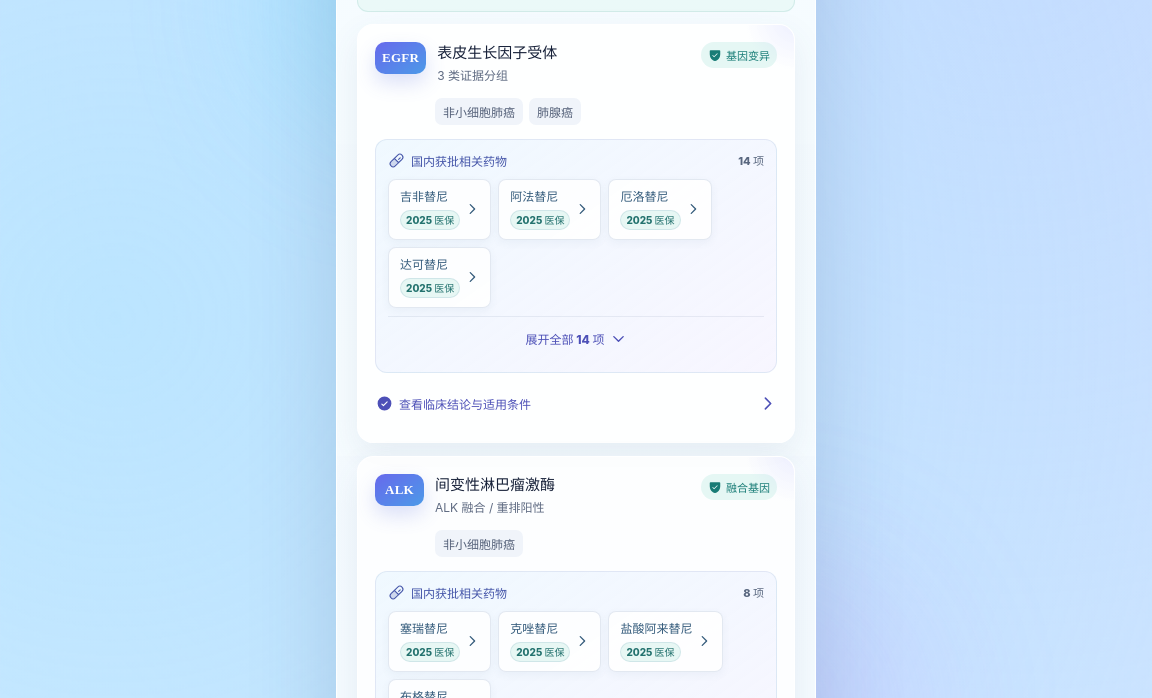
Test: Gene lookup app › expands all therapies inline without opening marker detail
(page scrolled)
Expected: the text "甲磺酸贝福替尼" is not shown
What coordinates should you click on to do the following:
click the button "展开全部 14 项"
I would click on:
 (576, 338)
Its box is [388,316,764,360].
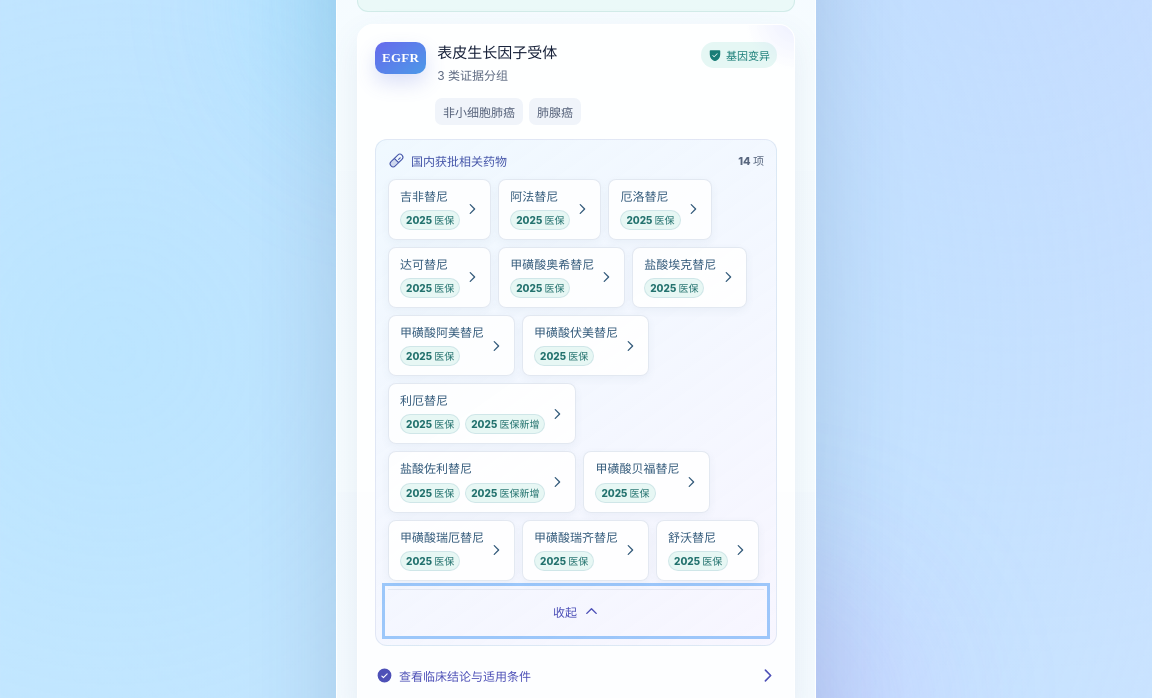
Expected: the button named "展开全部" is expanded, [388,589,764,633]
Expected: the text "甲磺酸贝福替尼" is shown, [595,461,679,478]
